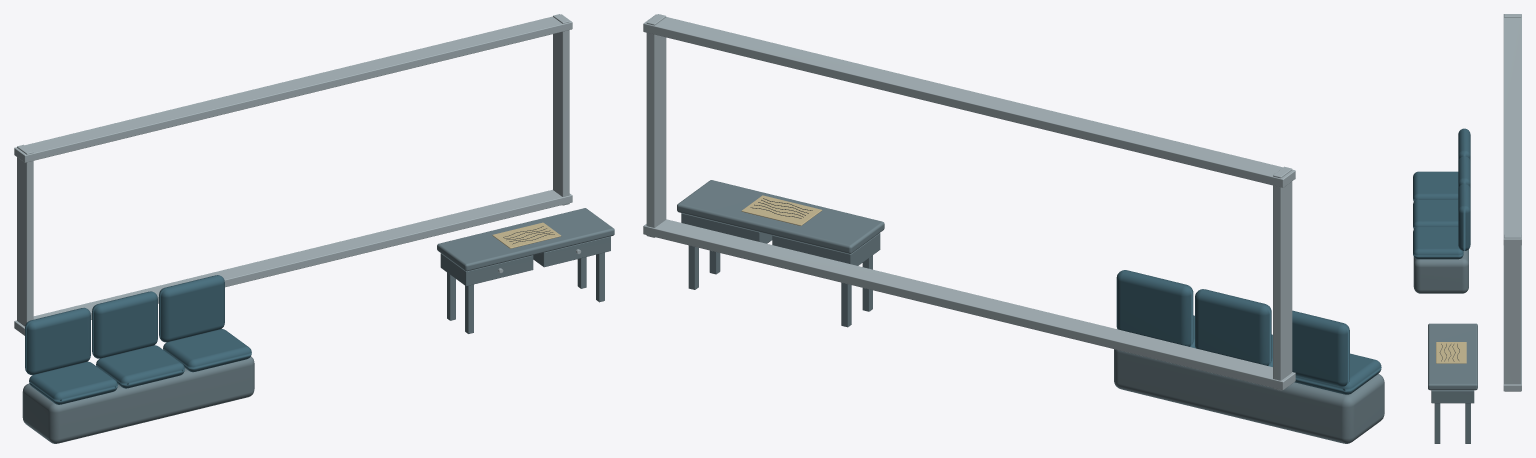
Rendered from north.glb.
3 renders of one model, left to right at view 1: azimuth 30°, elevation 25°; view 2: azimuth 150°, elevation 25°; view 3: azimuth 270°, elevation 25°, orthographic. The views are drawn at different scales.
Visible parts, largest first — view 1: starship-lounge north; view 2: starship-lounge north; view 3: starship-lounge north.
Part boxes in pixels (left/top/right/bottom): starship-lounge north: left=14, top=14, right=614, bottom=443; starship-lounge north: left=643, top=14, right=1384, bottom=443; starship-lounge north: left=1413, top=14, right=1521, bottom=443.
Bounding box in the file's own units: 7.27 × 3.01 × 1.42.
